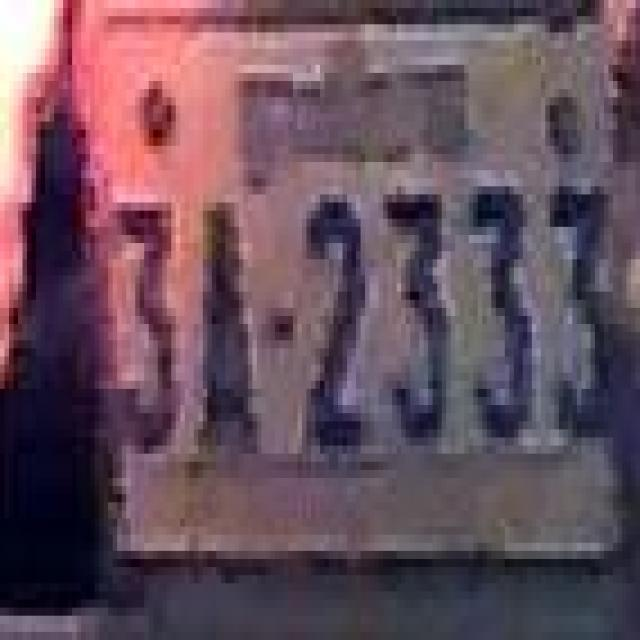Preah_Sihanouk: (234, 33, 466, 191)
